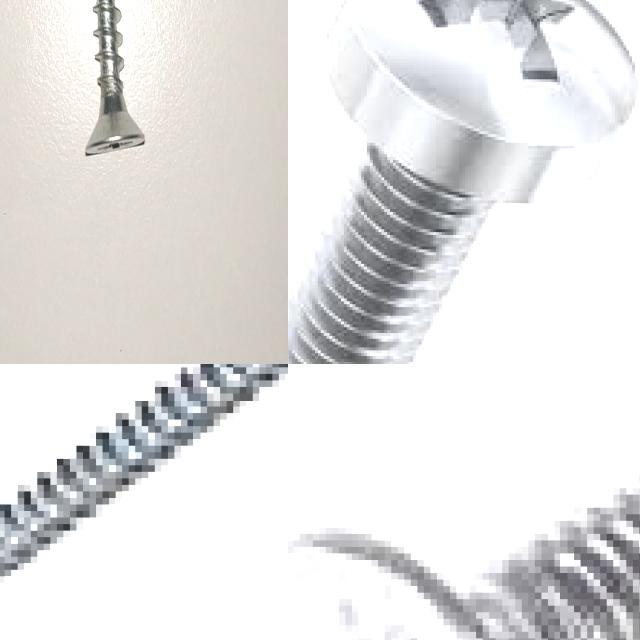Screw: (288, 0, 638, 364), (0, 364, 288, 586), (288, 468, 640, 640), (85, 0, 145, 155)
